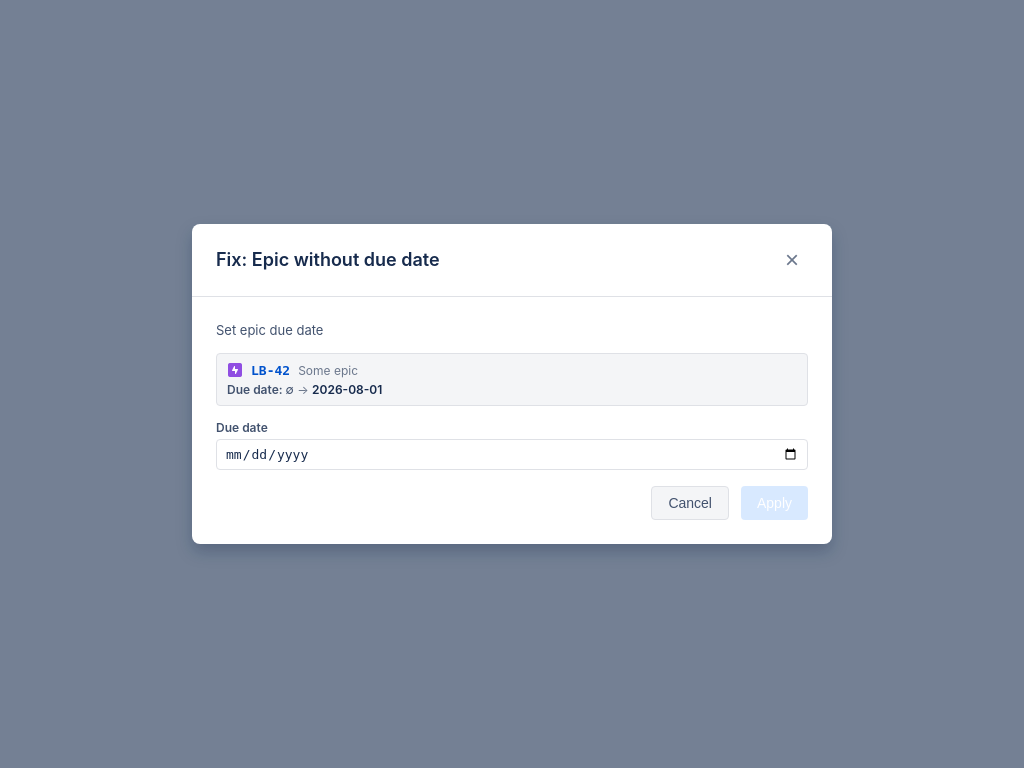
Test: FixModal › shows an inline error message when apply fails
In the date field labelled "Due date": coordinates (512, 455) x1=216 y1=439 x2=808 y2=470, type "2026-08-15"
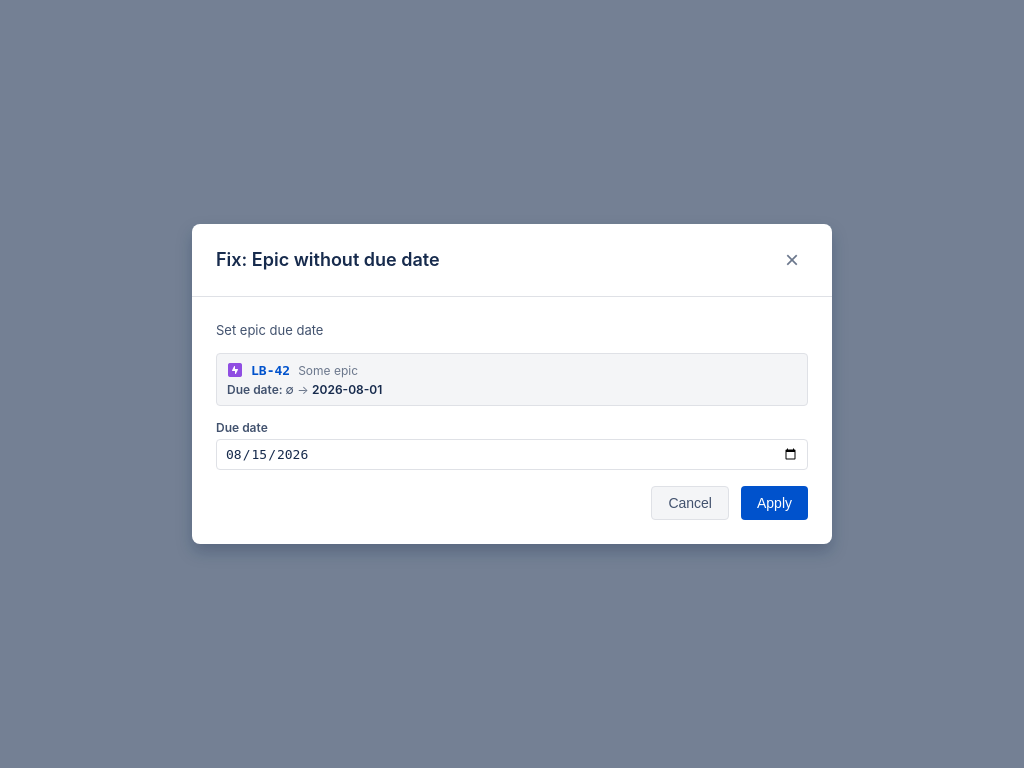
expect the button "Apply" is enabled: met
Click the button "Apply": coordinates (774, 503) x1=741 y1=486 x2=808 y2=520
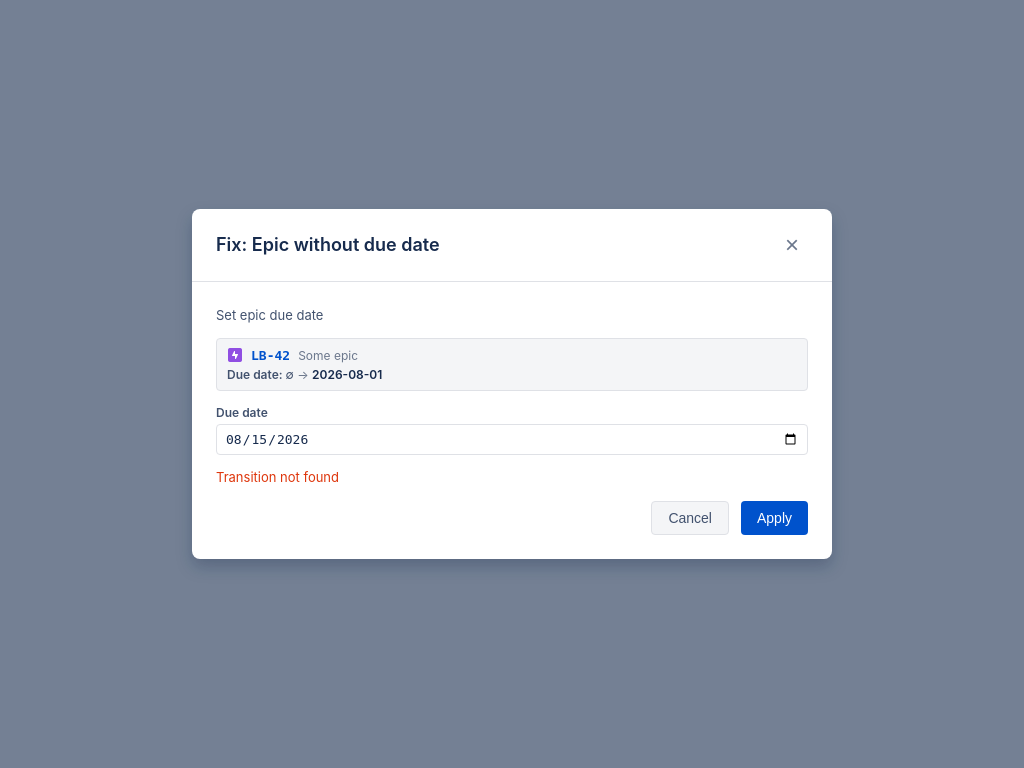
expect the text "Transition not found" is shown: met, box x1=216 y1=469 x2=339 y2=485
